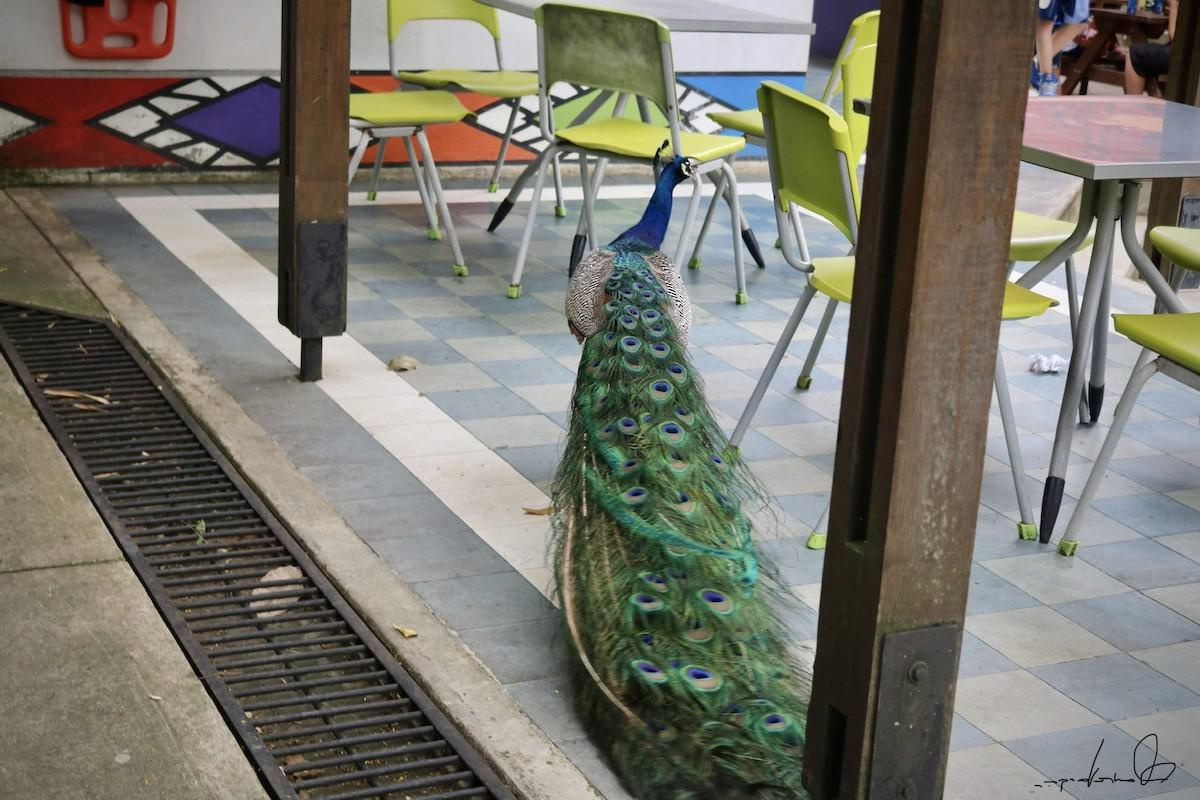peacock: (526, 90, 839, 783)
